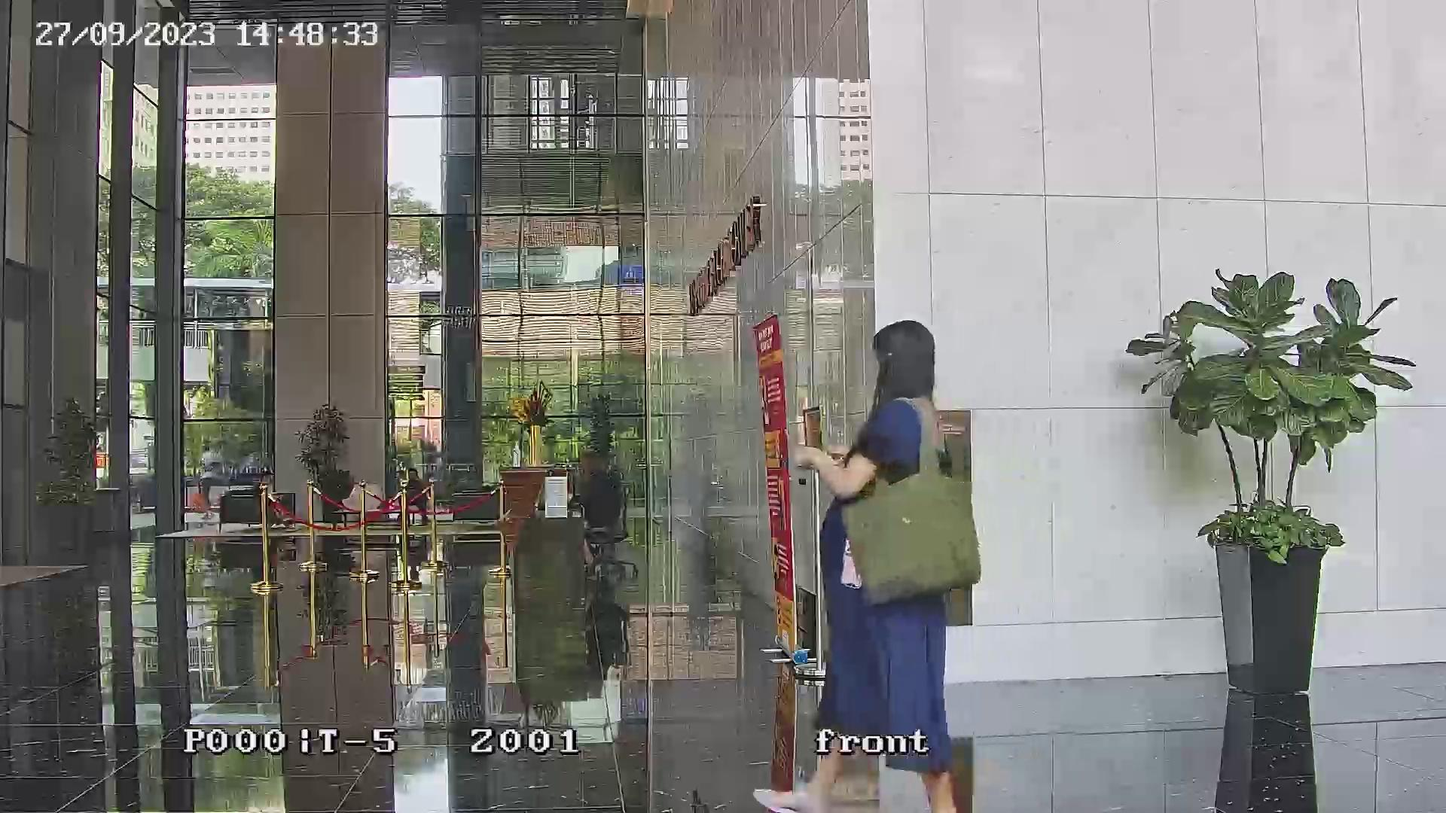person: (757, 318, 975, 808), (573, 454, 619, 531), (193, 440, 218, 519), (397, 467, 429, 528)
